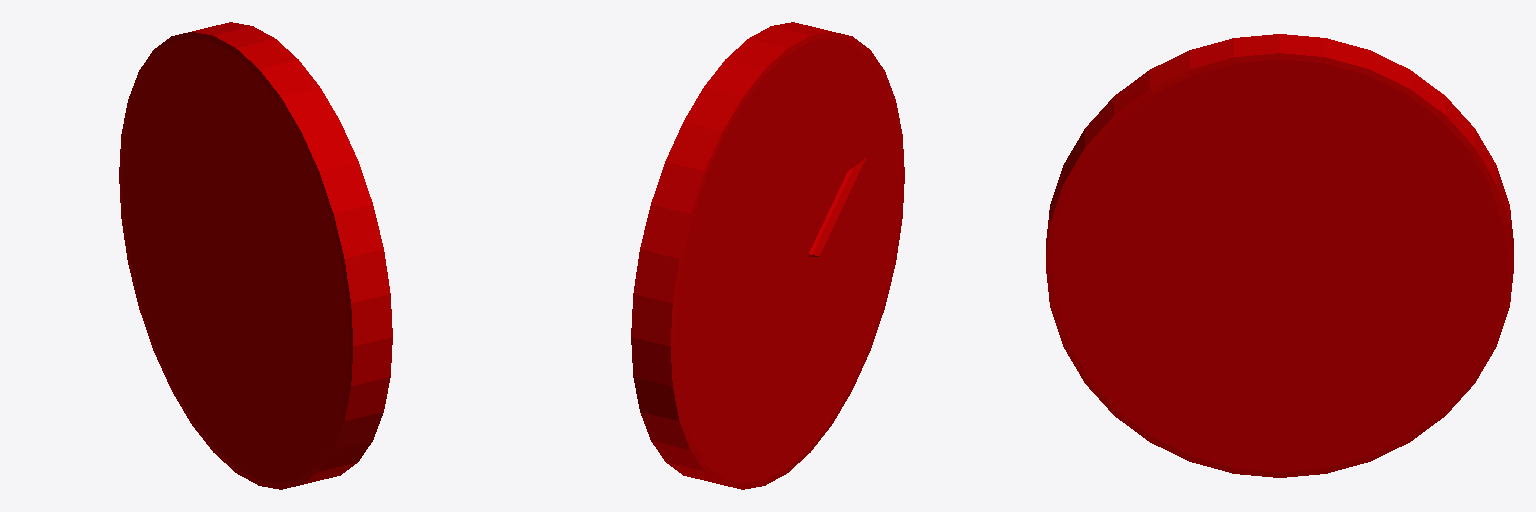
Rendered from red-coin.obj.
3 renders of one model, left to right at view 1: azimuth 30°, elevation 25°; view 2: azimuth 150°, elevation 25°; view 3: azimuth 270°, elevation 25°, orthographic.
Visible parts, largest first — view 1: Coin; view 2: Coin; view 3: Coin.
Boxes of the visible parts, <box> form: Coin: <box>119,22,392,489</box>; Coin: <box>631,22,904,489</box>; Coin: <box>1046,34,1513,477</box>.
Bounding box in the file's own units: 0.2 × 2 × 2.